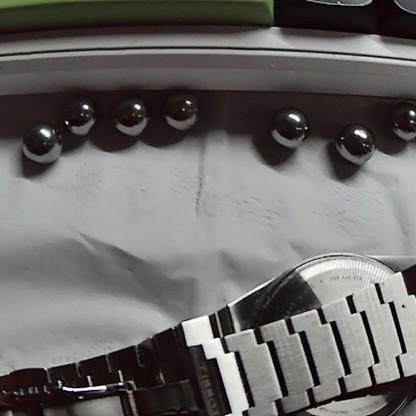ironball: (266, 105, 313, 150), (52, 95, 97, 140), (333, 124, 376, 168), (117, 92, 154, 141), (22, 120, 61, 161), (157, 89, 193, 130), (385, 97, 414, 140)
